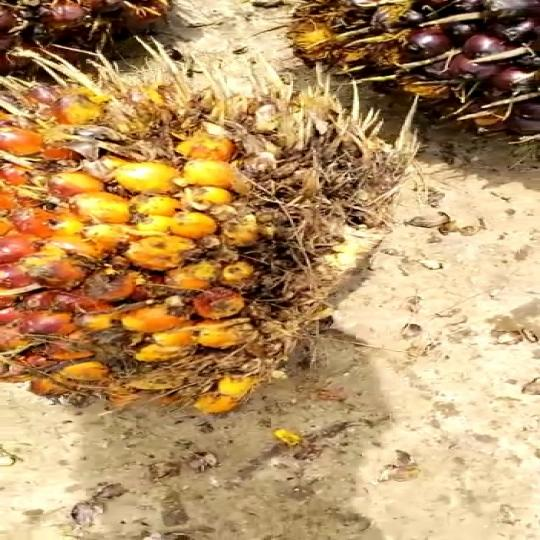masak: (0, 52, 391, 423)
